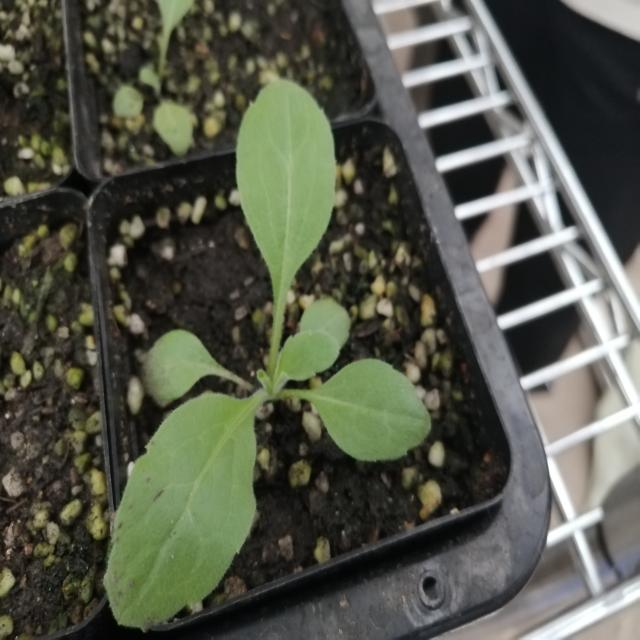horseweed: (85, 73, 432, 605)
